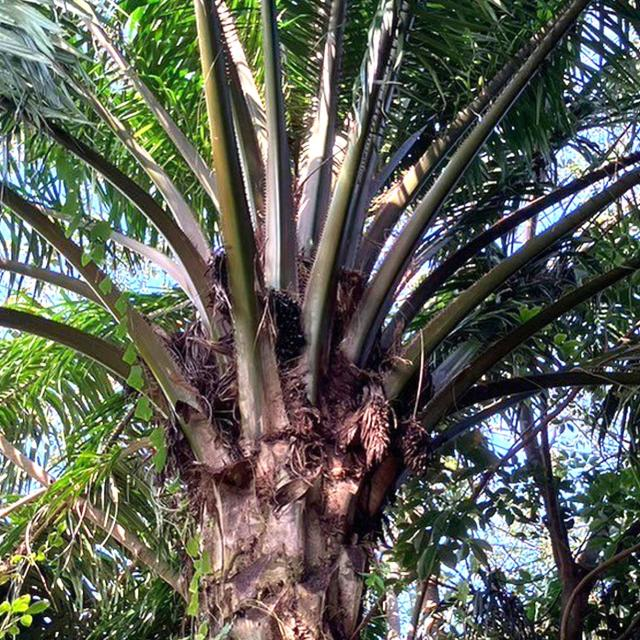unripe: (264, 287, 304, 367)
